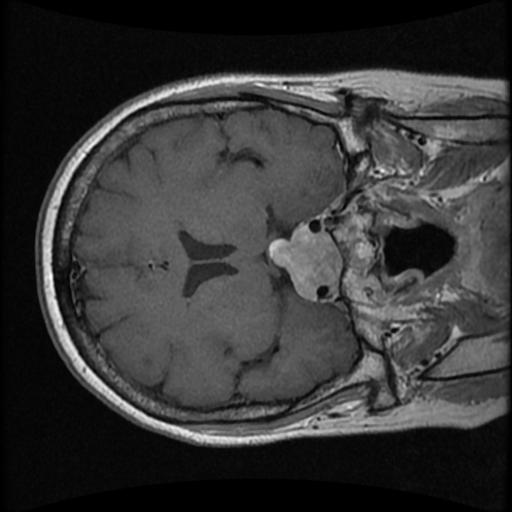pituitary tumour: (271, 222, 339, 299)
